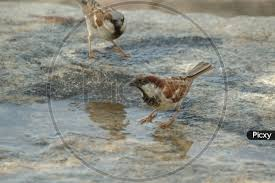home_sparrow: (121, 66, 231, 125), (64, 1, 137, 55)
